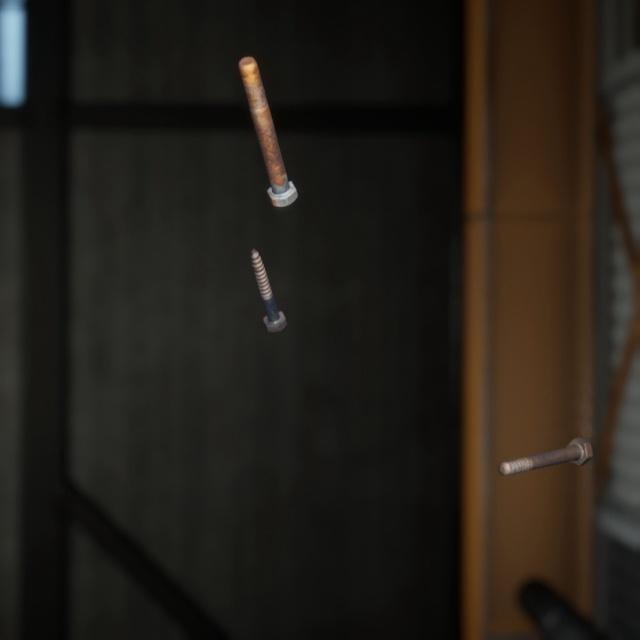bolt: (234, 39, 302, 198), (493, 412, 597, 459), (246, 226, 291, 319)
